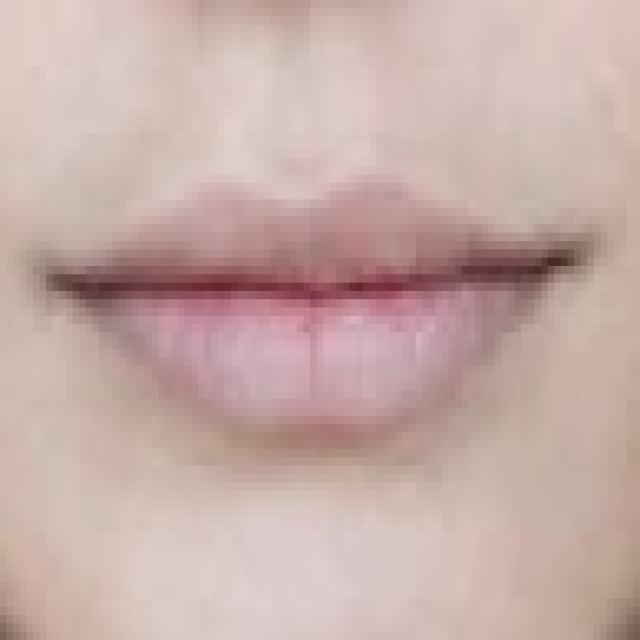closed-mouth: (33, 166, 587, 441)
